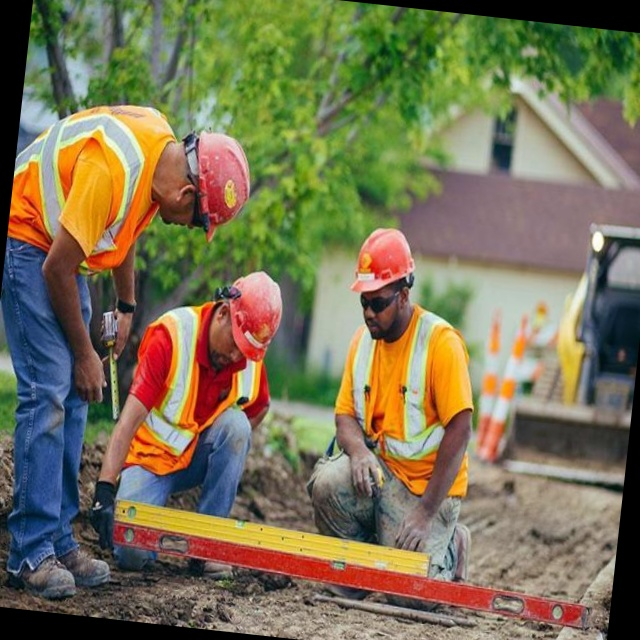goggles: (349, 276, 402, 312)
helmet: (178, 135, 234, 259), (232, 270, 285, 369), (344, 222, 414, 288)
vest: (4, 126, 150, 305), (352, 316, 483, 488), (151, 333, 271, 497)
